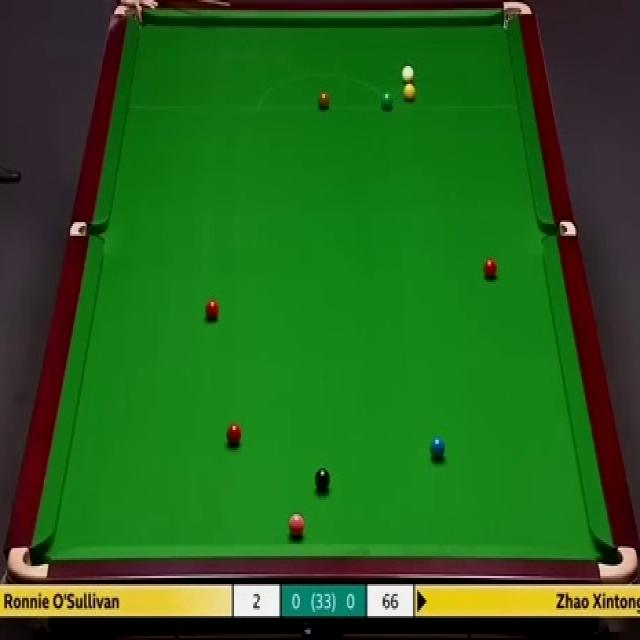pocket: (597, 542, 640, 584), (7, 545, 49, 580), (499, 0, 530, 32), (539, 218, 576, 240), (112, 9, 141, 34), (67, 220, 105, 235)
